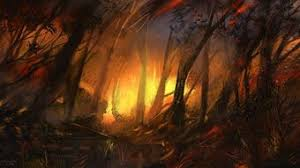fire: (105, 45, 183, 120)
smoke: (145, 5, 228, 51)
